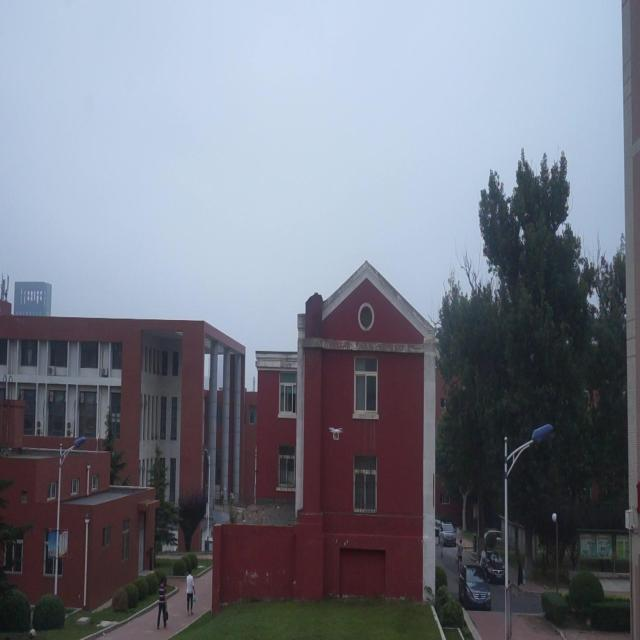drone: (325, 424, 344, 445)
